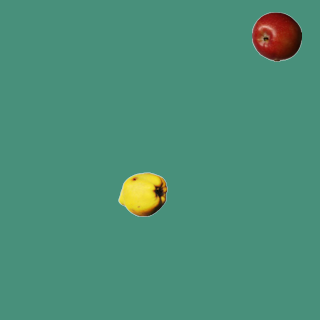Apple Braeburn: (251, 11, 301, 61)
Quince: (117, 169, 167, 219)
